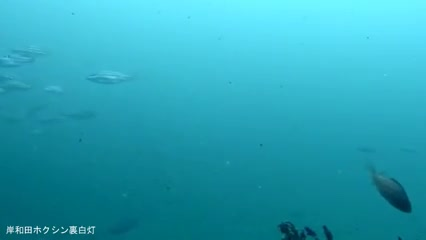smallfish: (363, 159, 418, 218)
